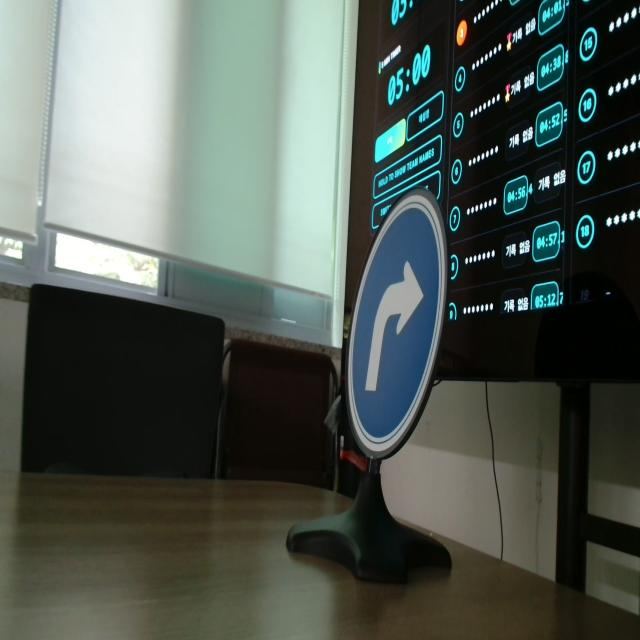right_dierection: (344, 193, 464, 474)
